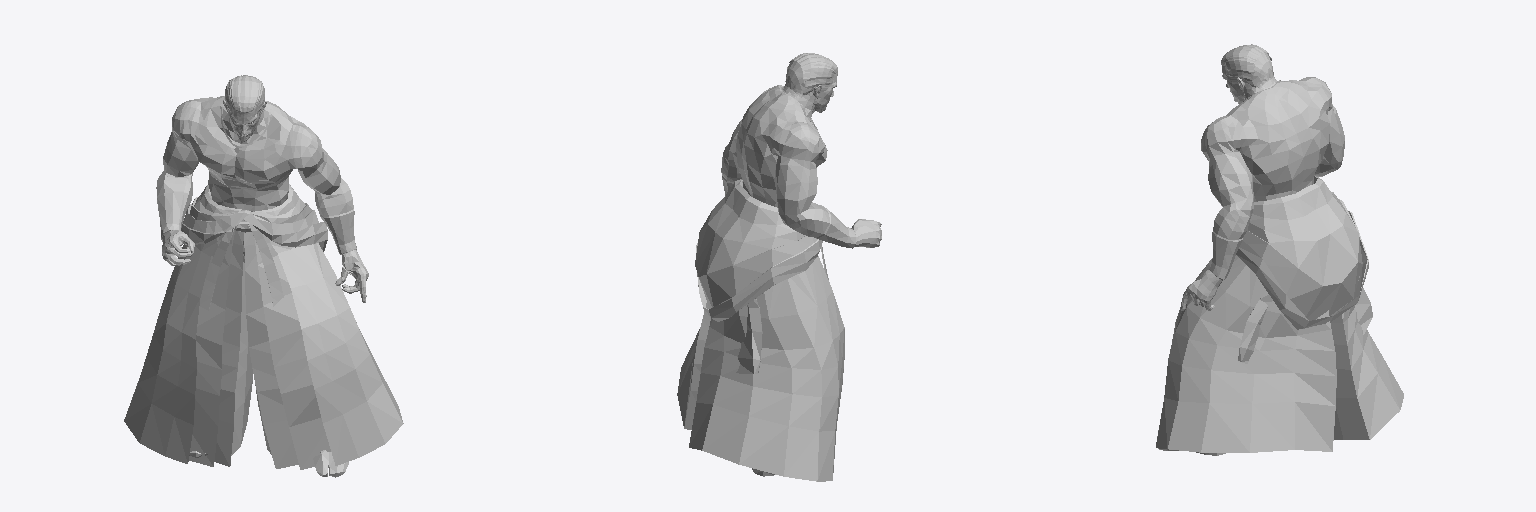
The model's file is geese_walk_000006.obj.
3 renders of one model, left to right at view 1: azimuth 30°, elevation 25°; view 2: azimuth 150°, elevation 25°; view 3: azimuth 270°, elevation 25°, orthographic.
Visible parts, largest first — view 1: GamemodelShape1.003, hairShape.001; view 2: GamemodelShape1.003, hairShape.001; view 3: GamemodelShape1.003, hairShape.001.
Part boxes in pixels (x1,y1,x2,y2): GamemodelShape1.003: (124, 96, 403, 477); hairShape.001: (225, 75, 264, 114); GamemodelShape1.003: (677, 74, 881, 481); hairShape.001: (783, 53, 837, 97); GamemodelShape1.003: (1156, 66, 1403, 455); hairShape.001: (1221, 44, 1275, 88).
Bounding box in the file's own units: 2.68 × 4.87 × 2.8.